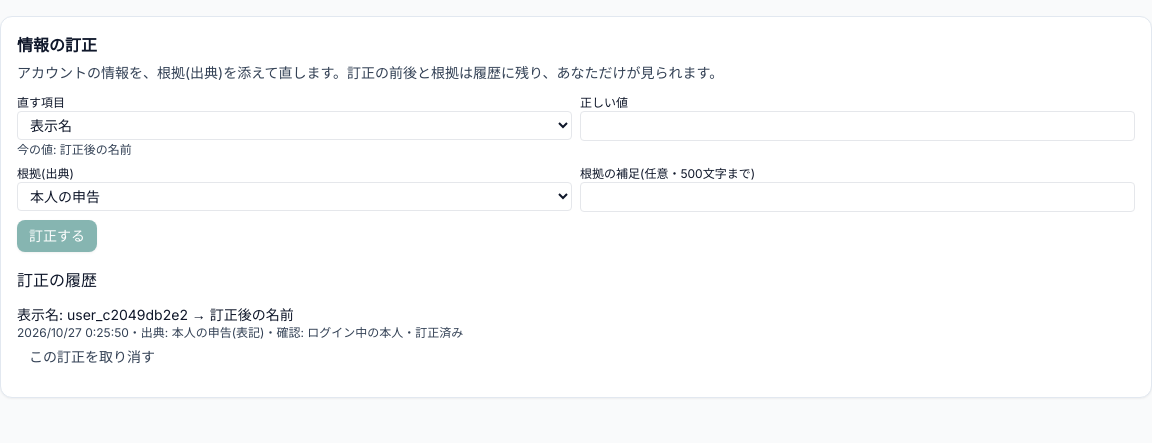
Test case: CorrectionsCard › 出典を添えて表示名を訂正し、履歴から取り消せる
The image size is (1152, 443).
expect the text "今の値: 訂正後の名前" is shown: met, box [17,142,132,157]
Type "新しい名前" into the field labelled "正しい値". click: (858, 126)
box: [580,111,1135,141]
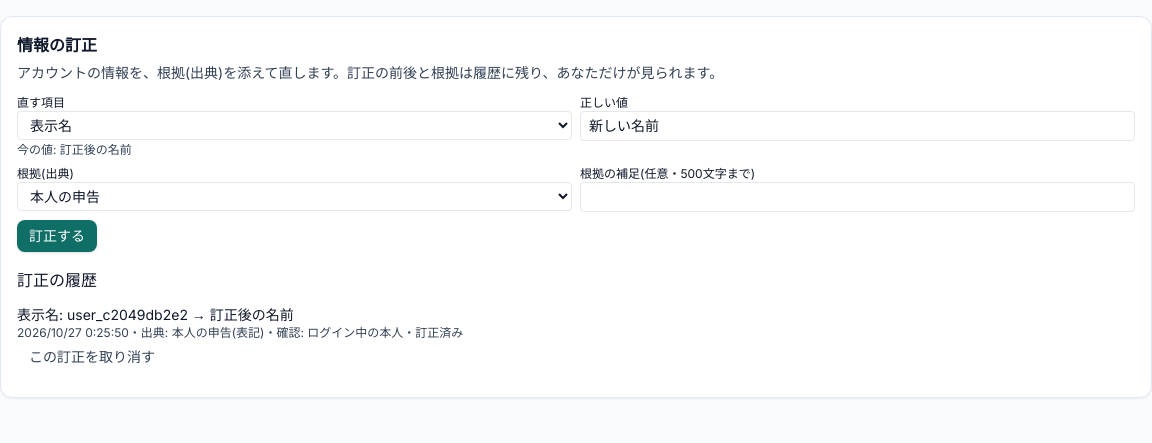
Select "公的な書類" in the dropdown labelled "根拠(出典)". click: (294, 196)
box: [17,182,572,211]
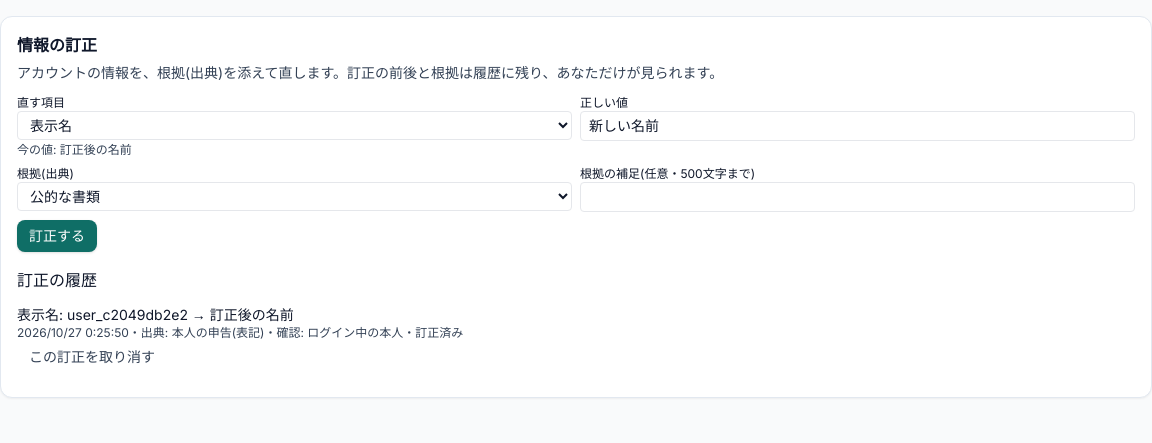
Type " 旅券 " into the field labelled "根拠の補足(任意・500文字まで)". click: (858, 197)
box: [580,182,1135,212]
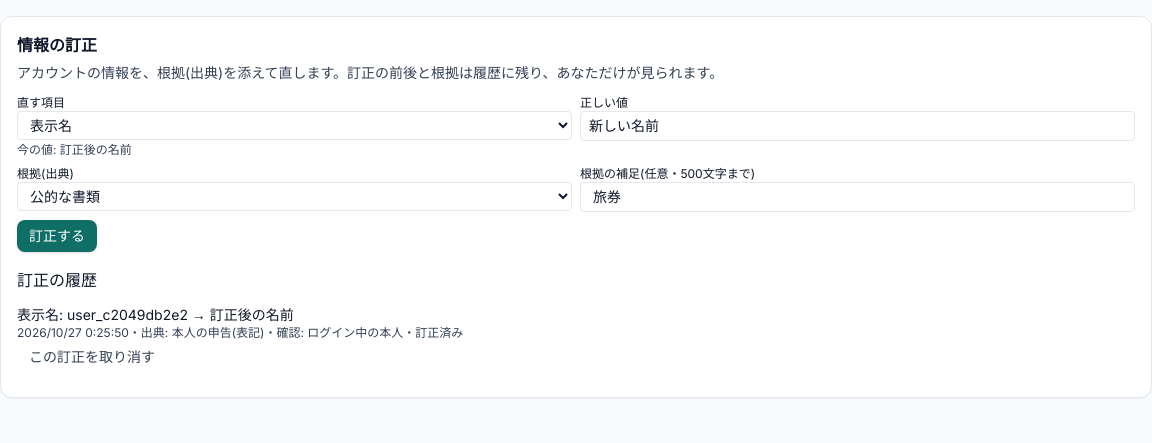
Click the button "訂正する". click: (57, 236)
box: [17,220,97,252]
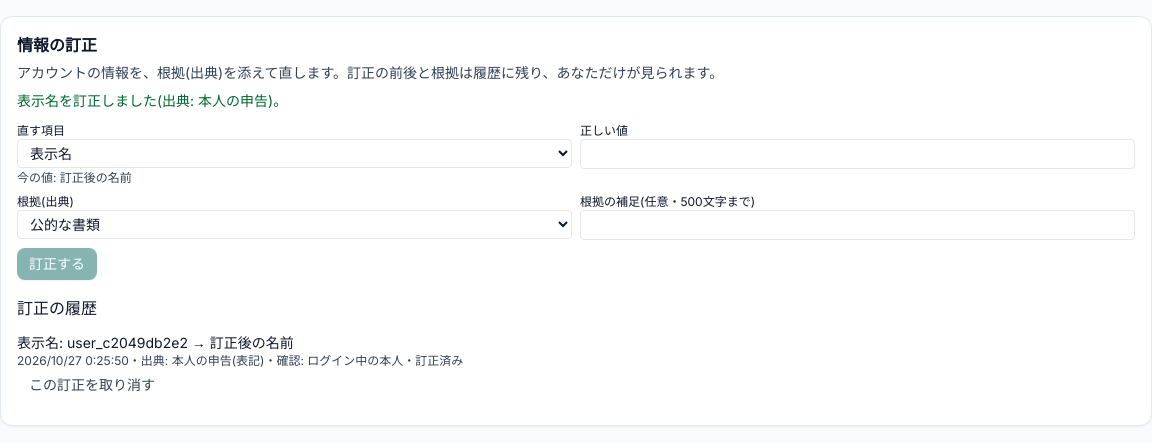
expect the list named "訂正の履歴" shows "表示名: user_c2049db2e2 → 訂正後の名前": met, box [17,334,294,351]
expect the message shows "を訂正しました": met, box [17,92,287,109]
Click the button "この訂正を取り消す". click: (92, 385)
box: [17,369,167,401]
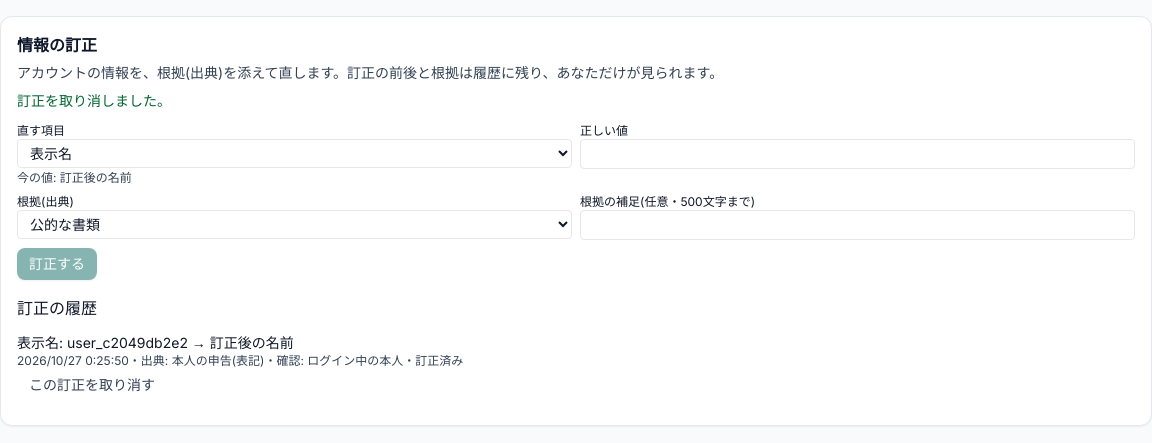
expect the message reads "訂正を取り消しました。": met, box [17,92,171,109]
